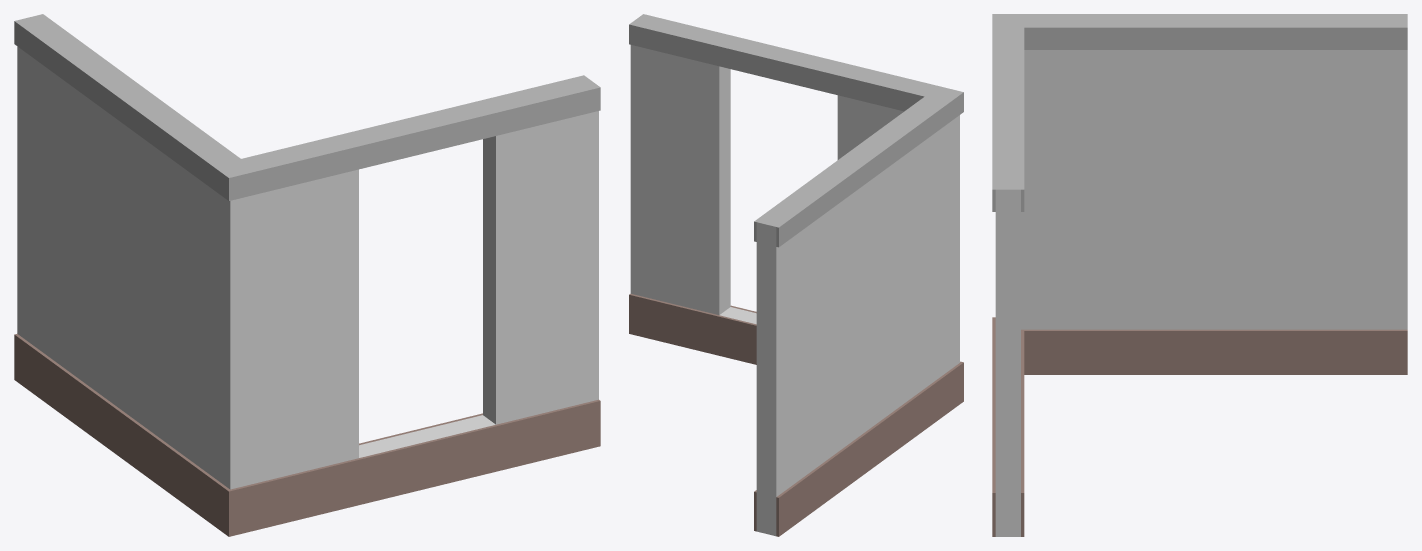
File: Wall06-01.fbx
The picture shows the model from 3 angles, left to right: view 1: azimuth 30°, elevation 25°; view 2: azimuth 150°, elevation 25°; view 3: azimuth 270°, elevation 25°; orthographic projection. The views are drawn at different scales.
Parts seen in each view (by area): view 1: Wall06-01; view 2: Wall06-01; view 3: Wall06-01.
Boxes of the visible parts, x1=… form: Wall06-01: x1=14, y1=14, x2=600, y2=536; Wall06-01: x1=629, y1=14, x2=963, y2=536; Wall06-01: x1=992, y1=14, x2=1407, y2=536.
Bounding box in the file's own units: 3.25 × 3.25 × 3.
